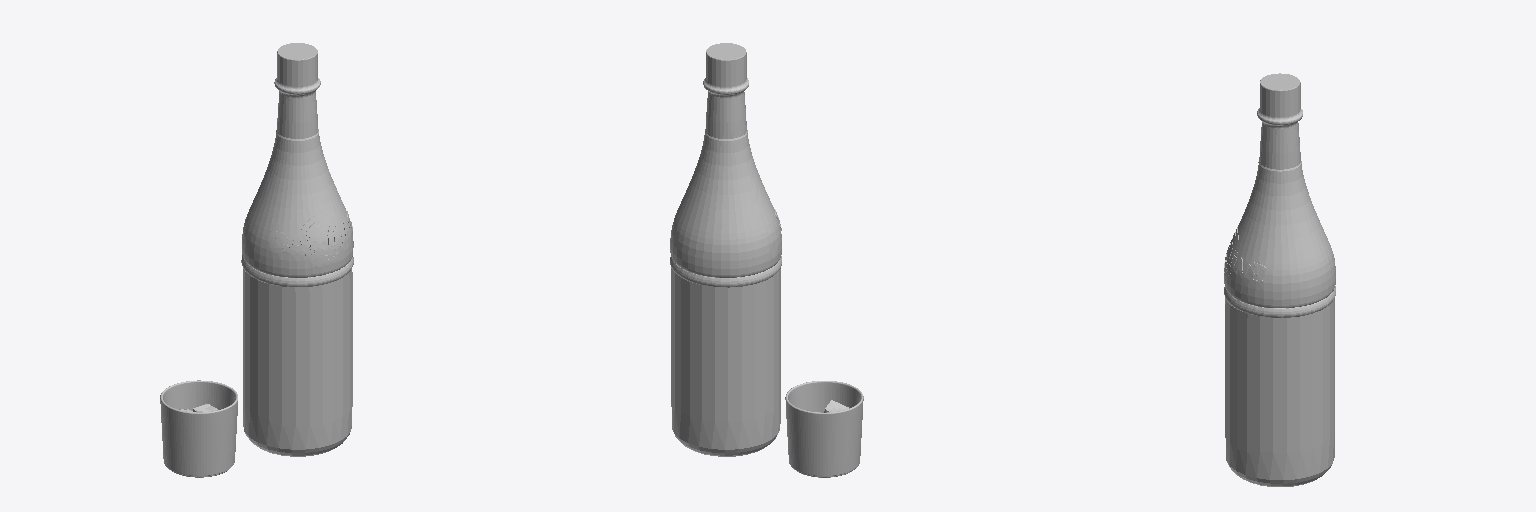
Rendered from bar_counter.obj.
3 renders of one model, left to right at view 1: azimuth 30°, elevation 25°; view 2: azimuth 150°, elevation 25°; view 3: azimuth 270°, elevation 25°, orthographic.
Visible parts, largest first — view 1: bottle_plastic_barline_joined, bottle_plastic_barline_sticker_bottle_plastic_barline_joined.00, whisky_old_glass_whisky_glass.001, bouchon_bottle_plastic_barline_joined.001; view 2: bottle_plastic_barline_joined, whisky_old_glass_whisky_glass.001, bouchon_bottle_plastic_barline_joined.001; view 3: bottle_plastic_barline_joined, bottle_plastic_barline_sticker_bottle_plastic_barline_joined.00, bouchon_bottle_plastic_barline_joined.001.
Boxes of the visible parts, <box> form: bottle_plastic_barline_joined: <box>241,134,353,456</box>; bottle_plastic_barline_sticker_bottle_plastic_barline_joined.00: <box>270,272,352,426</box>; whisky_old_glass_whisky_glass.001: <box>160,380,237,475</box>; bouchon_bottle_plastic_barline_joined.001: <box>274,43,320,140</box>; bottle_plastic_barline_joined: <box>670,133,781,456</box>; whisky_old_glass_whisky_glass.001: <box>785,381,863,475</box>; bouchon_bottle_plastic_barline_joined.001: <box>703,43,748,140</box>; bottle_plastic_barline_joined: <box>1224,164,1335,486</box>; bottle_plastic_barline_sticker_bottle_plastic_barline_joined.00: <box>1225,304,1258,454</box>; bouchon_bottle_plastic_barline_joined.001: <box>1257,73,1302,171</box>.
Bounding box in the file's own units: 205 × 420 × 110.